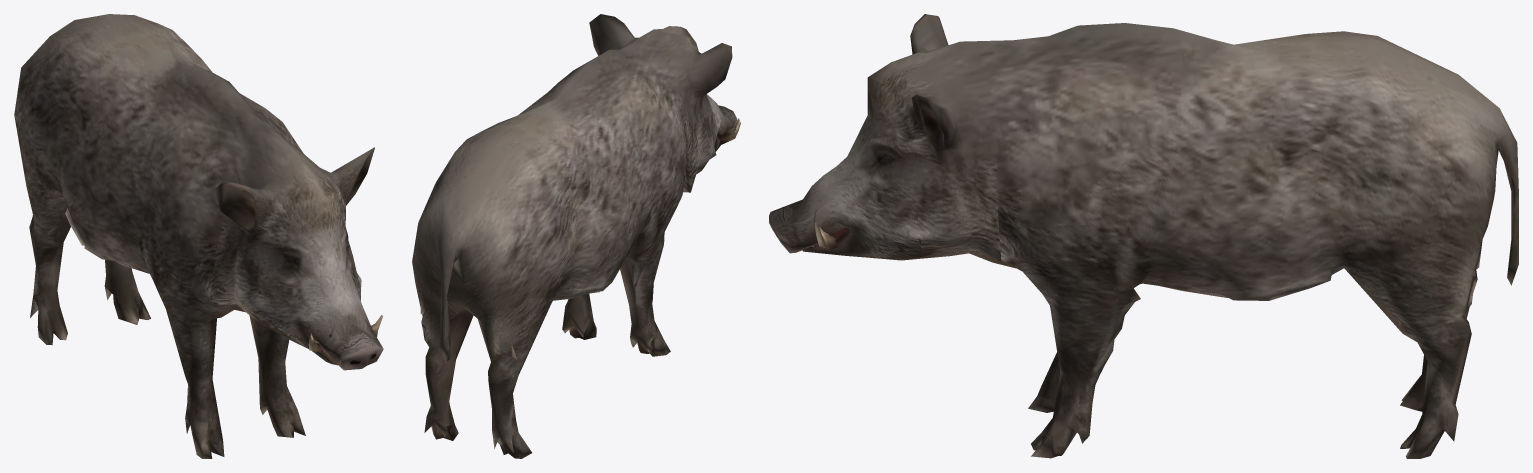
File: javaporco_adulto_lod.glb
The picture shows the model from 3 angles, left to right: view 1: azimuth 30°, elevation 25°; view 2: azimuth 150°, elevation 25°; view 3: azimuth 270°, elevation 25°; orthographic projection. The views are drawn at different scales.
Parts seen in each view (by area): view 1: Javaporco adulto; view 2: Javaporco adulto; view 3: Javaporco adulto.
Boxes of the visible parts, left/top/right/bottom form: Javaporco adulto: left=14, top=14, right=383, bottom=458; Javaporco adulto: left=412, top=14, right=740, bottom=458; Javaporco adulto: left=769, top=14, right=1518, bottom=458.
Size of the model in its own units: 0.2949 by 0.5957 by 0.9961.
Materials: 1 (1 with a texture image).
